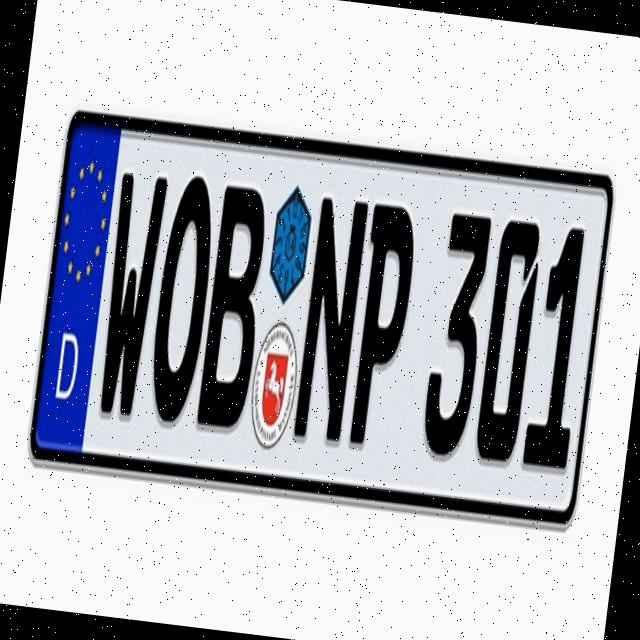Allemagne: (30, 113, 124, 470)
EU: (25, 118, 618, 534)
